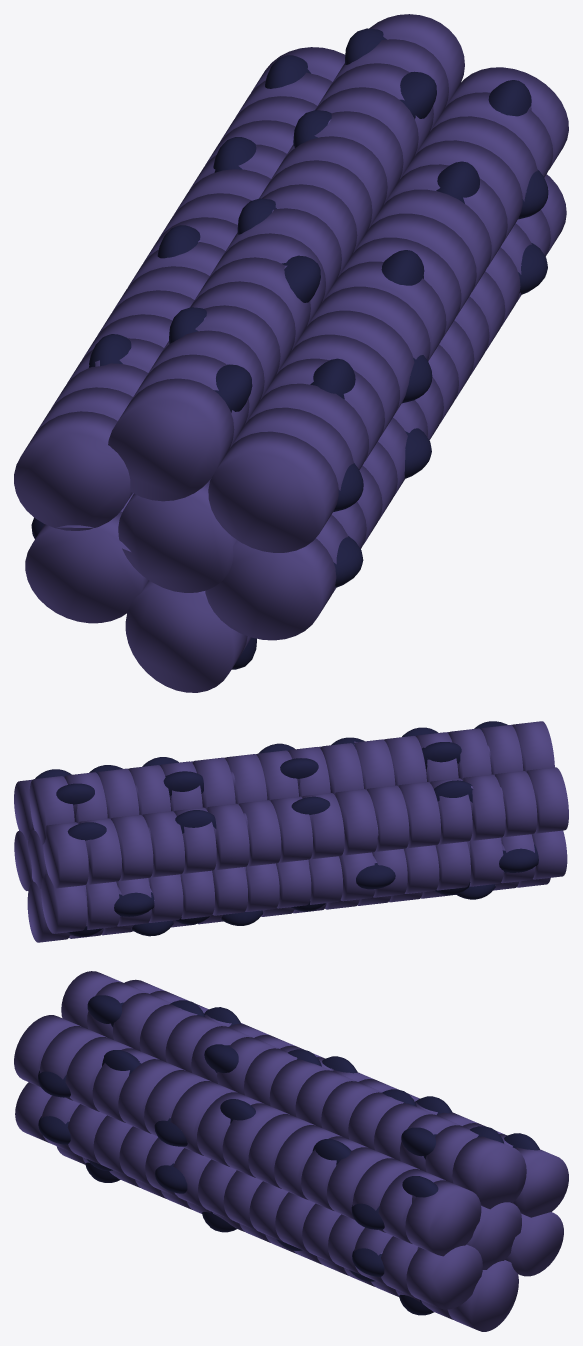
File: Muscular.gltf
3 views of the same model, one above another, from view 1: azimuth 30°, elevation 25°; view 2: azimuth 150°, elevation 25°; view 3: azimuth 270°, elevation 25° (orthographic). The views are drawn at different scales.
Visible parts, largest first — view 1: Sphere.006; view 2: Sphere.006; view 3: Sphere.006.
Part boxes in pixels (x1,y1,x2,y2): Sphere.006: (14,14,568,692); Sphere.006: (14,721,568,942); Sphere.006: (14,971,568,1331).
Size of the model in its own units: 2.47 by 0.9082 by 2.48.
